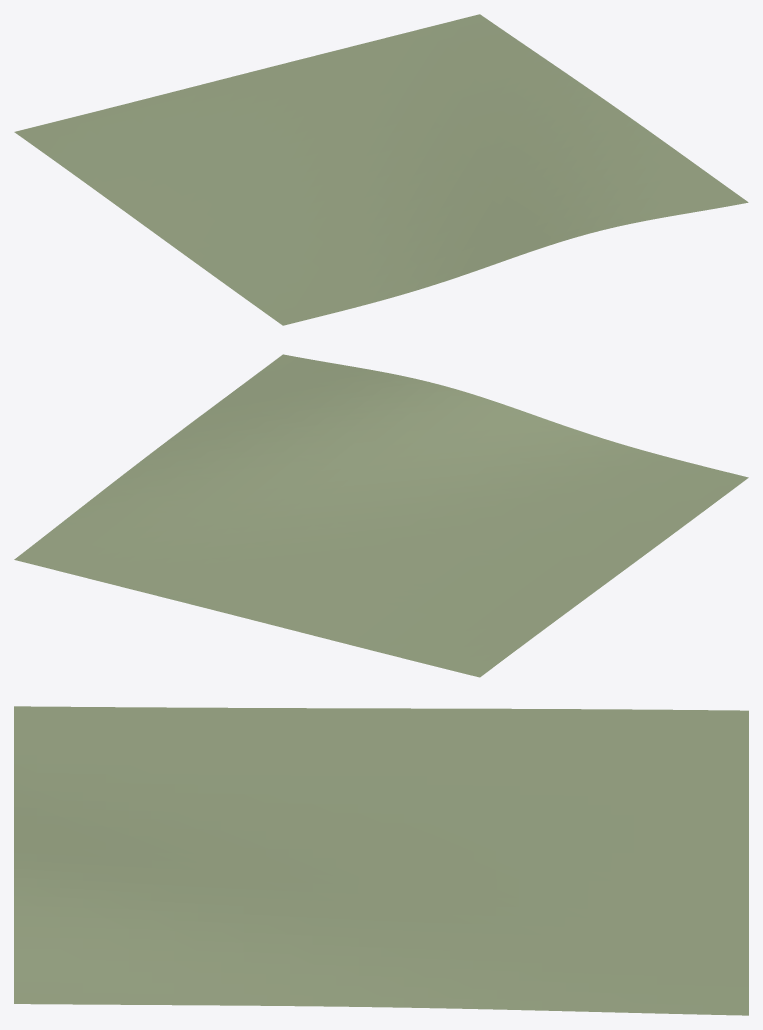
File: desert-4-1.glb
The picture shows the model from 3 angles, top to bottom: view 1: azimuth 30°, elevation 25°; view 2: azimuth 150°, elevation 25°; view 3: azimuth 270°, elevation 25°; orthographic projection. The views are drawn at different scales.
Visible parts, largest first — view 1: desert-4-1; view 2: desert-4-1; view 3: desert-4-1.
Part boxes in pixels (bbox=[...]): desert-4-1: bbox=[14, 14, 748, 325]; desert-4-1: bbox=[14, 354, 748, 677]; desert-4-1: bbox=[14, 706, 748, 1015].
Bounding box in the file's own units: 512 × 21.69 × 512.
